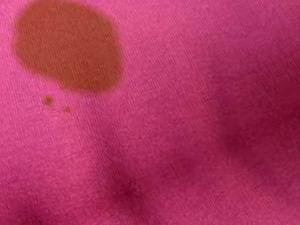stain: (10, 1, 129, 99), (61, 102, 76, 122), (41, 93, 55, 107)
